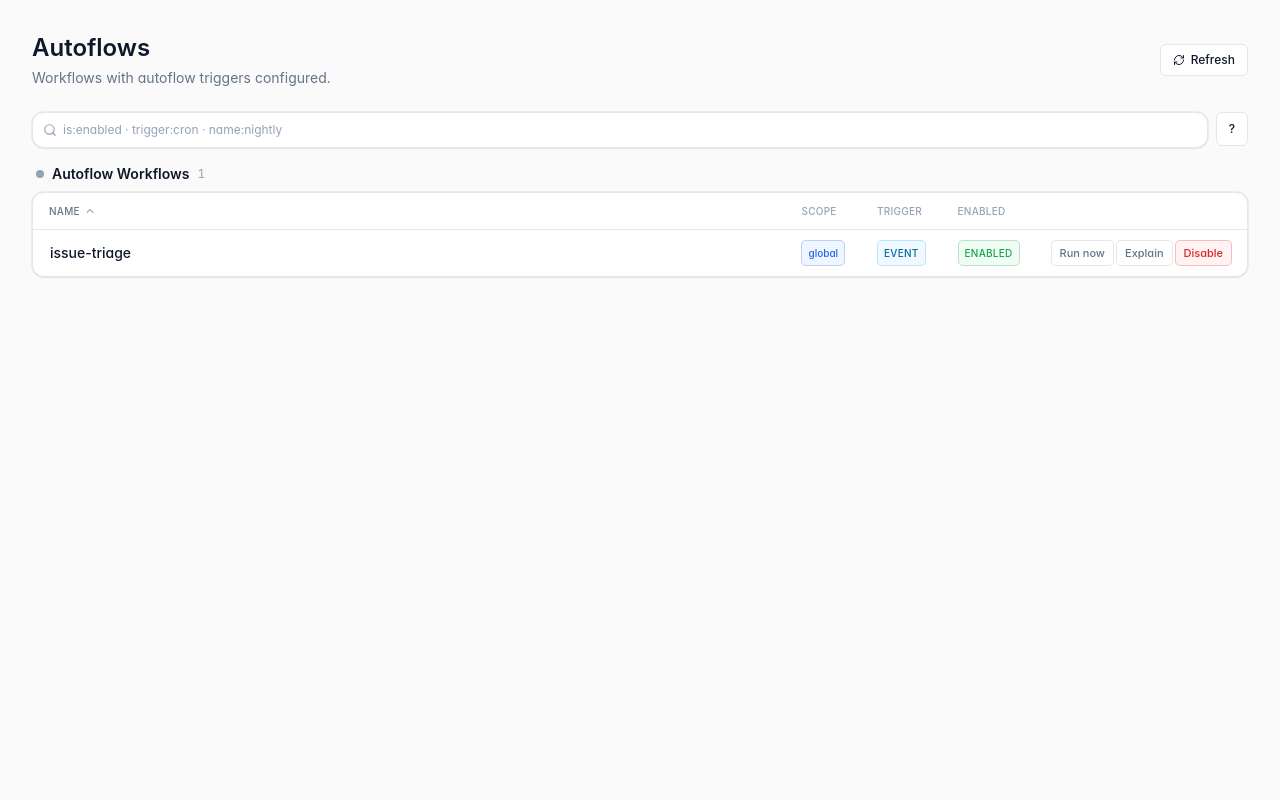
Test: AutoflowsDefs — Run now and Explain › Explain opens the drawer for the row
Step 1. Click the button with aria-label "Explain issue-triage" → (1144, 253), box [1117, 241, 1172, 265]
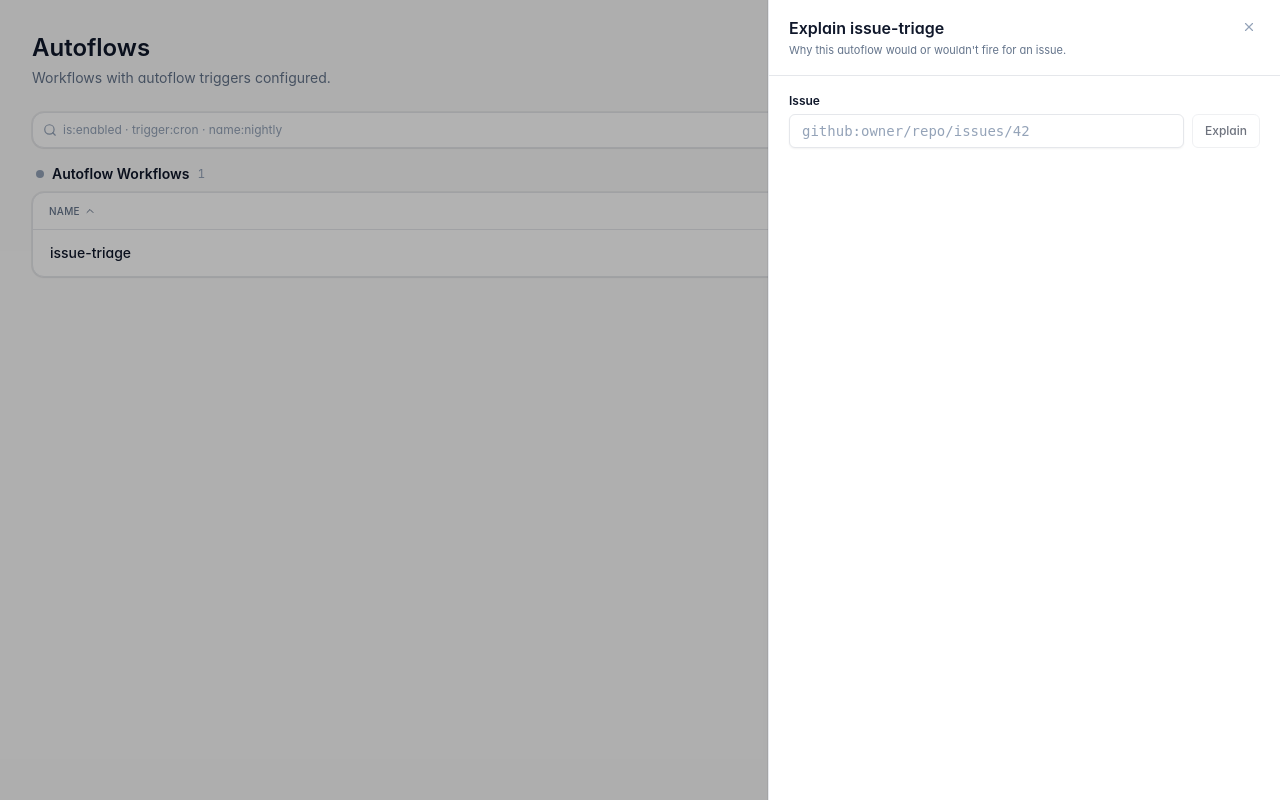
Now the dialog "Explain issue-triage" is shown, box [768, 0, 1279, 799]
